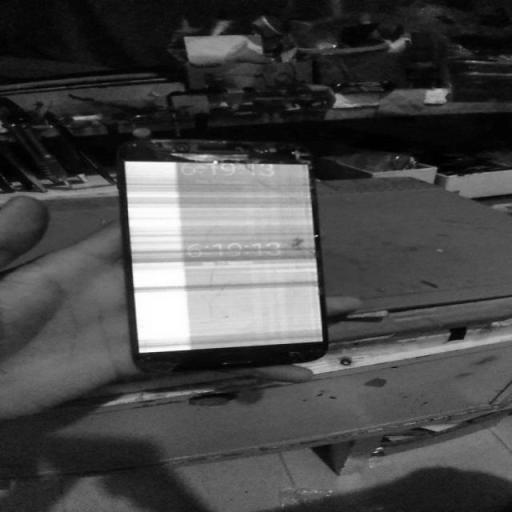phone: (109, 143, 324, 375)
